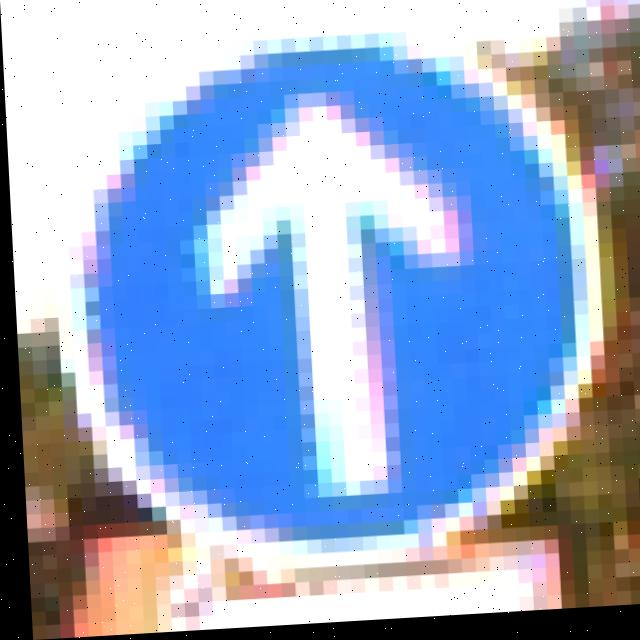compulsory_ahead: (73, 0, 629, 584)
